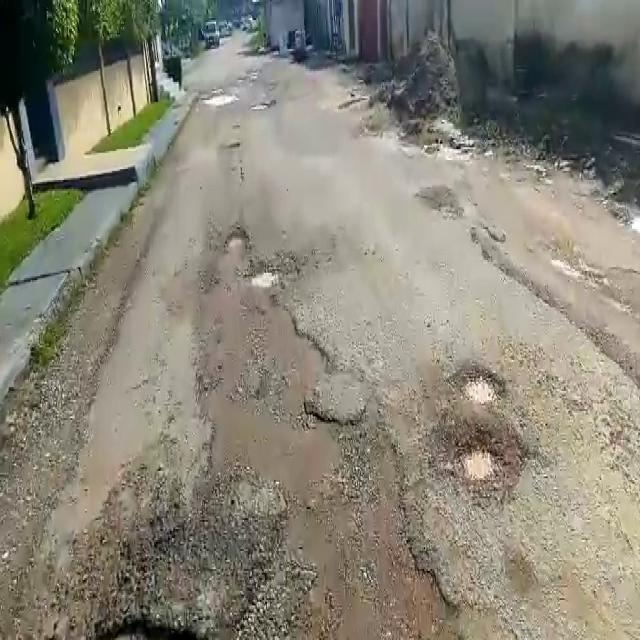pothole: (443, 423, 509, 506), (452, 362, 512, 406), (245, 259, 282, 290), (225, 225, 251, 250)
